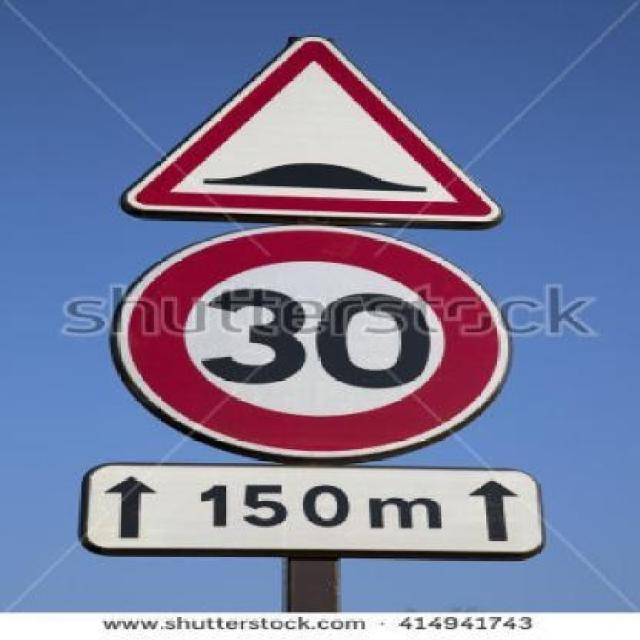forb_speed_over_30: (117, 227, 511, 461)
